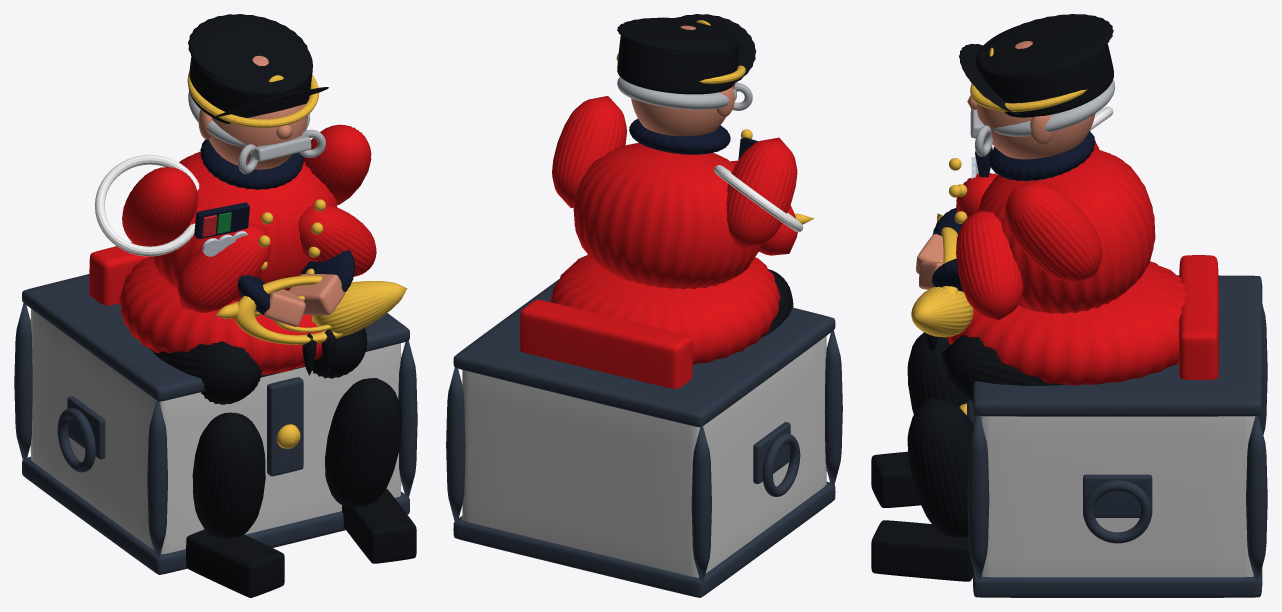
The model's file is antique_past_glory.obj.
3 views of the same model, side by side, from view 1: azimuth 30°, elevation 25°; view 2: azimuth 150°, elevation 25°; view 3: azimuth 270°, elevation 25° (orthographic). The views are drawn at different scales.
Parts seen in each view (by area): view 1: Chest_WoodBody, Chest_LidRim, Pensioner_CoatSkirt, Pensioner_Torso, Pensioner_R_Shin, Pensioner_L_Shin, Pensioner_CapTopPlate, Chest_BaseRim, Pensioner_Boot_L, Pensioner_L_ForeArm, Pensioner_L_UpperArm, Pensioner_L_Thigh (+26 smaller); view 2: Chest_WoodBody, Pensioner_Torso, Chest_LidRim, Pensioner_CoatSkirt, Pensioner_CoatTails, Chest_BaseRim, Pensioner_L_UpperArm, Pensioner_CapCrown, Pensioner_R_UpperArm, Pensioner_CapTopPlate, Chest_Corner_1, Chest_Corner_0 (+10 smaller); view 3: Chest_WoodBody, Pensioner_CoatSkirt, Chest_LidRim, Pensioner_Torso, Pensioner_R_Shin, Pensioner_R_UpperArm, Chest_BaseRim, Pensioner_R_ForeArm, Pensioner_CapTopPlate, Pensioner_CapCrown, Pensioner_Boot_R, Pensioner_CoatTails (+18 smaller).
Boxes of the visible parts, x1=… form: Chest_WoodBody: x1=30, y1=309, x2=401, y2=554; Chest_LidRim: x1=22, y1=274, x2=409, y2=401; Pensioner_CoatSkirt: x1=119, y1=257, x2=322, y2=374; Pensioner_Torso: x1=149, y1=151, x2=337, y2=301; Pensioner_R_Shin: x1=325, y1=378, x2=401, y2=507; Pensioner_L_Shin: x1=192, y1=412, x2=265, y2=538; Pensioner_CapTopPlate: x1=188, y1=14, x2=309, y2=86; Chest_BaseRim: x1=22, y1=456, x2=409, y2=574; Pensioner_Boot_L: x1=186, y1=529, x2=284, y2=597; Pensioner_L_ForeArm: x1=177, y1=223, x2=270, y2=312; Pensioner_L_UpperArm: x1=122, y1=167, x2=198, y2=246; Pensioner_L_Thigh: x1=149, y1=341, x2=261, y2=404; Chest_WoodBody: x1=462, y1=336, x2=826, y2=577; Pensioner_Torso: x1=573, y1=143, x2=760, y2=289; Chest_LidRim: x1=453, y1=279, x2=835, y2=427; Pensioner_CoatSkirt: x1=550, y1=254, x2=780, y2=364; Pensioner_CoatTails: x1=520, y1=299, x2=692, y2=388; Chest_BaseRim: x1=453, y1=481, x2=835, y2=597; Pensioner_L_UpperArm: x1=726, y1=137, x2=797, y2=249; Pensioner_CapCrown: x1=617, y1=17, x2=739, y2=94; Pensioner_R_UpperArm: x1=552, y1=96, x2=626, y2=207; Pensioner_CapTopPlate: x1=617, y1=18, x2=736, y2=51; Chest_Corner_1: x1=691, y1=426, x2=711, y2=582; Chest_Corner_0: x1=446, y1=367, x2=465, y2=521; Chest_WoodBody: x1=980, y1=416, x2=1255, y2=577; Pensioner_CoatSkirt: x1=947, y1=261, x2=1187, y2=385; Chest_LidRim: x1=972, y1=275, x2=1262, y2=416; Pensioner_Torso: x1=978, y1=148, x2=1155, y2=313; Pensioner_R_Shin: x1=907, y1=398, x2=973, y2=537; Pensioner_R_UpperArm: x1=1005, y1=182, x2=1102, y2=282; Chest_BaseRim: x1=973, y1=567, x2=1262, y2=597; Pensioner_R_ForeArm: x1=956, y1=210, x2=1023, y2=319; Pensioner_CapTopPlate: x1=984, y1=14, x2=1113, y2=73; Pensioner_CapCrown: x1=976, y1=25, x2=1113, y2=117; Pensioner_Boot_R: x1=871, y1=520, x2=972, y2=581; Pensioner_CoatTails: x1=1178, y1=255, x2=1218, y2=379.
Bounding box in the file's own units: 0.1198 × 0.1921 × 0.1367.
